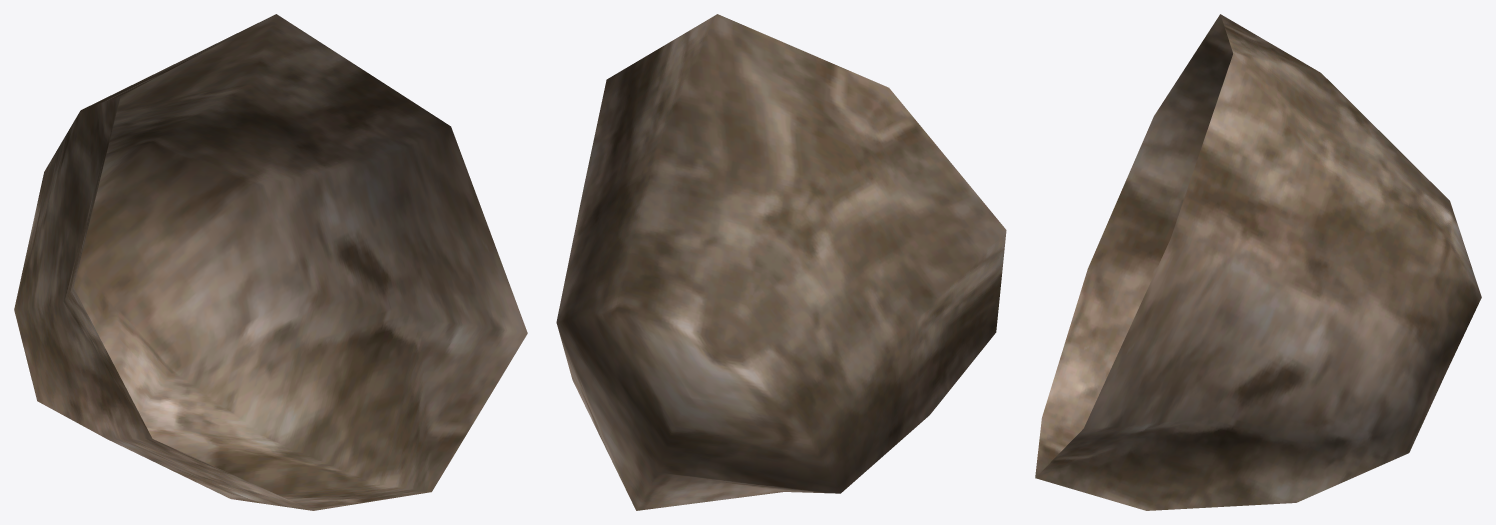
The model's file is OVERHILL_A_01_ROCK41.fbx.
The picture shows the model from 3 angles, left to right: view 1: azimuth 30°, elevation 25°; view 2: azimuth 150°, elevation 25°; view 3: azimuth 270°, elevation 25°; orthographic projection. The views are drawn at different scales.
Visible parts, largest first — view 1: OVERHILL_A_01_ROCK41; view 2: OVERHILL_A_01_ROCK41; view 3: OVERHILL_A_01_ROCK41.
Part boxes in pixels (<box>): OVERHILL_A_01_ROCK41: <box>14,14,527,510</box>; OVERHILL_A_01_ROCK41: <box>556,14,1006,510</box>; OVERHILL_A_01_ROCK41: <box>1035,14,1481,510</box>.
Bounding box in the file's own units: 17897 × 18620 × 17232.
1 material, 1 textured.
